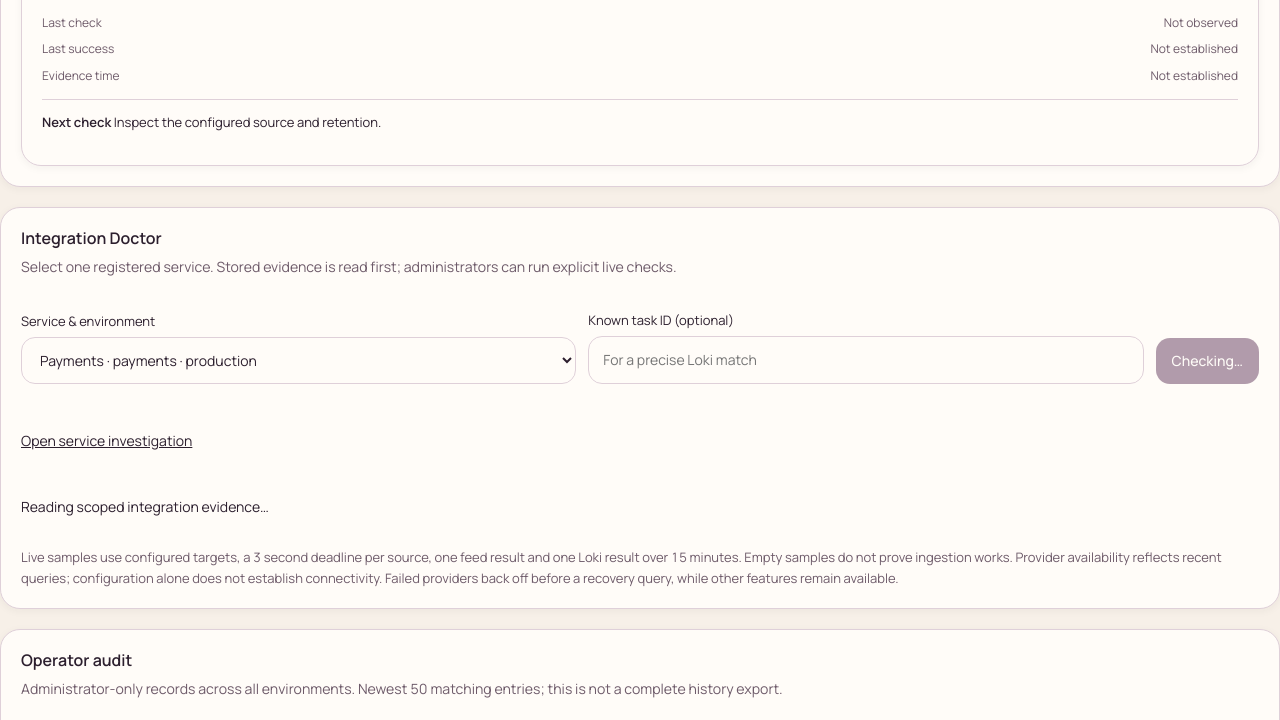
Scenario: Studio Health and Integration Doctor › does not show a previous service result after selecting another environment/source
(page scrolled)
Select "Staging · staging · staging" in the dropdown labelled "Service & environment" at (299, 361), box [21,337,576,384]
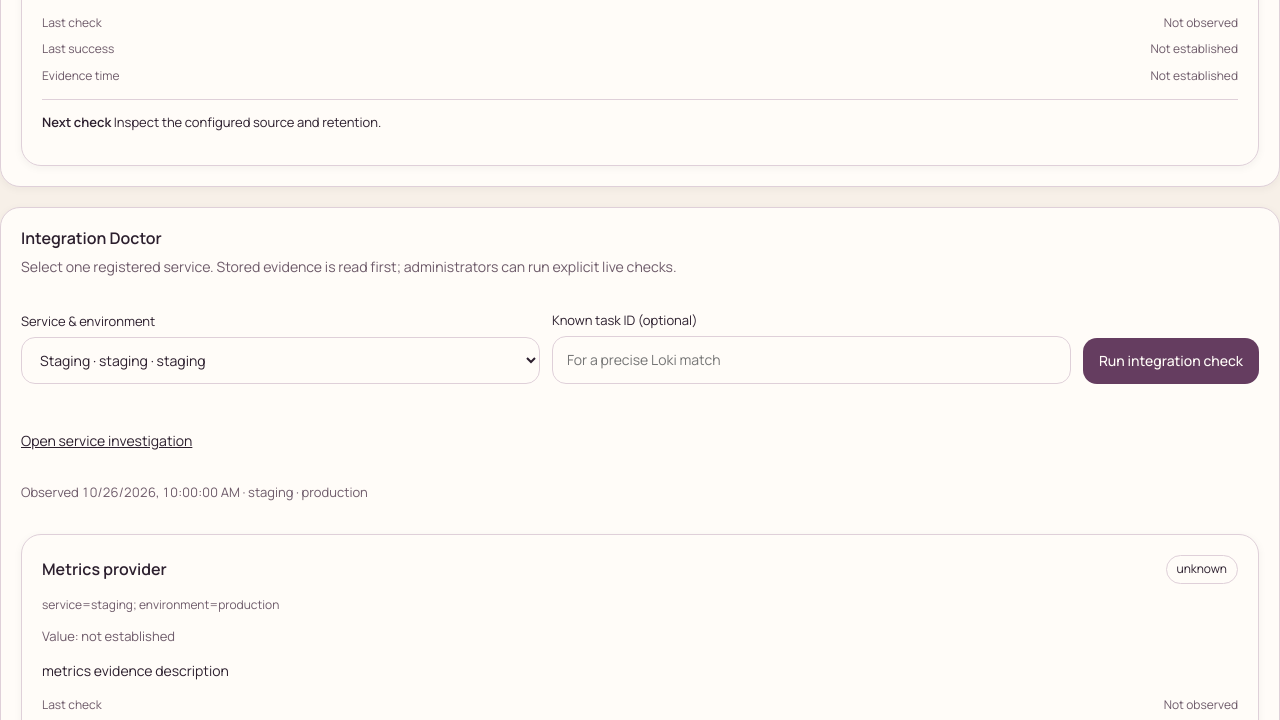
expect the text "metrics evidence description" is shown: met, box [42,661,229,680]
